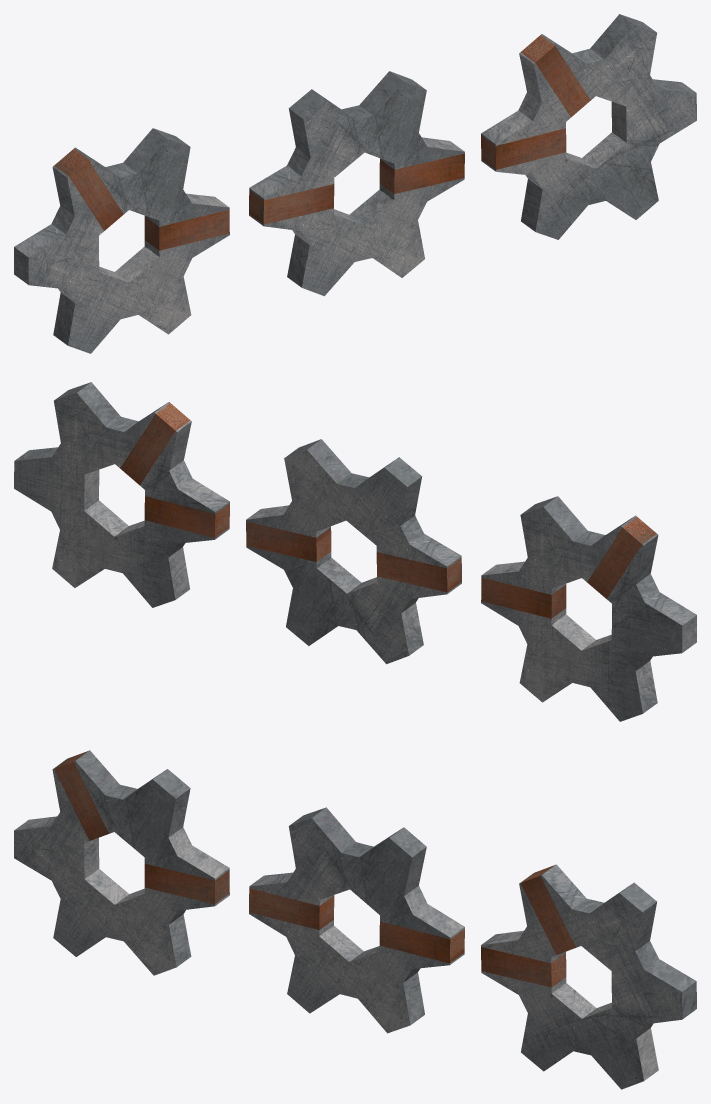
Rendered from Gears (2).fbx.
The picture shows the model from 3 angles, top to bottom: view 1: azimuth 30°, elevation 25°; view 2: azimuth 150°, elevation 25°; view 3: azimuth 330°, elevation 25°; orthographic projection.
Visible parts, largest first — view 1: Gear3, Gear1, Gear2; view 2: Gear3, Gear1, Gear2; view 3: Gear2, Gear1, Gear3.
Part boxes in pixels (<box>): Gear3: <box>481,14,696,239</box>; Gear1: <box>14,128,229,353</box>; Gear2: <box>249,71,464,296</box>; Gear3: <box>14,382,229,607</box>; Gear1: <box>481,496,696,721</box>; Gear2: <box>246,439,461,664</box>; Gear2: <box>249,807,464,1033</box>; Gear1: <box>14,750,229,975</box>; Gear3: <box>481,864,696,1089</box>.
Size of the model in its own units: 612 by 172 by 23.35.
